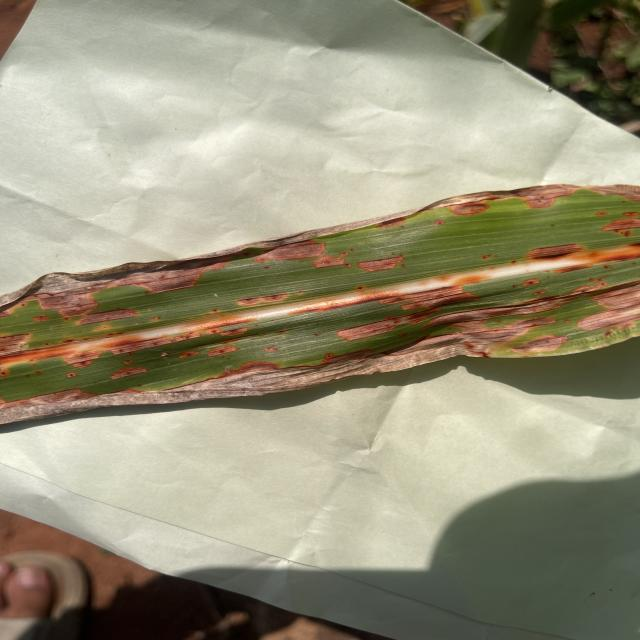millet_rust: (2, 182, 640, 437)
